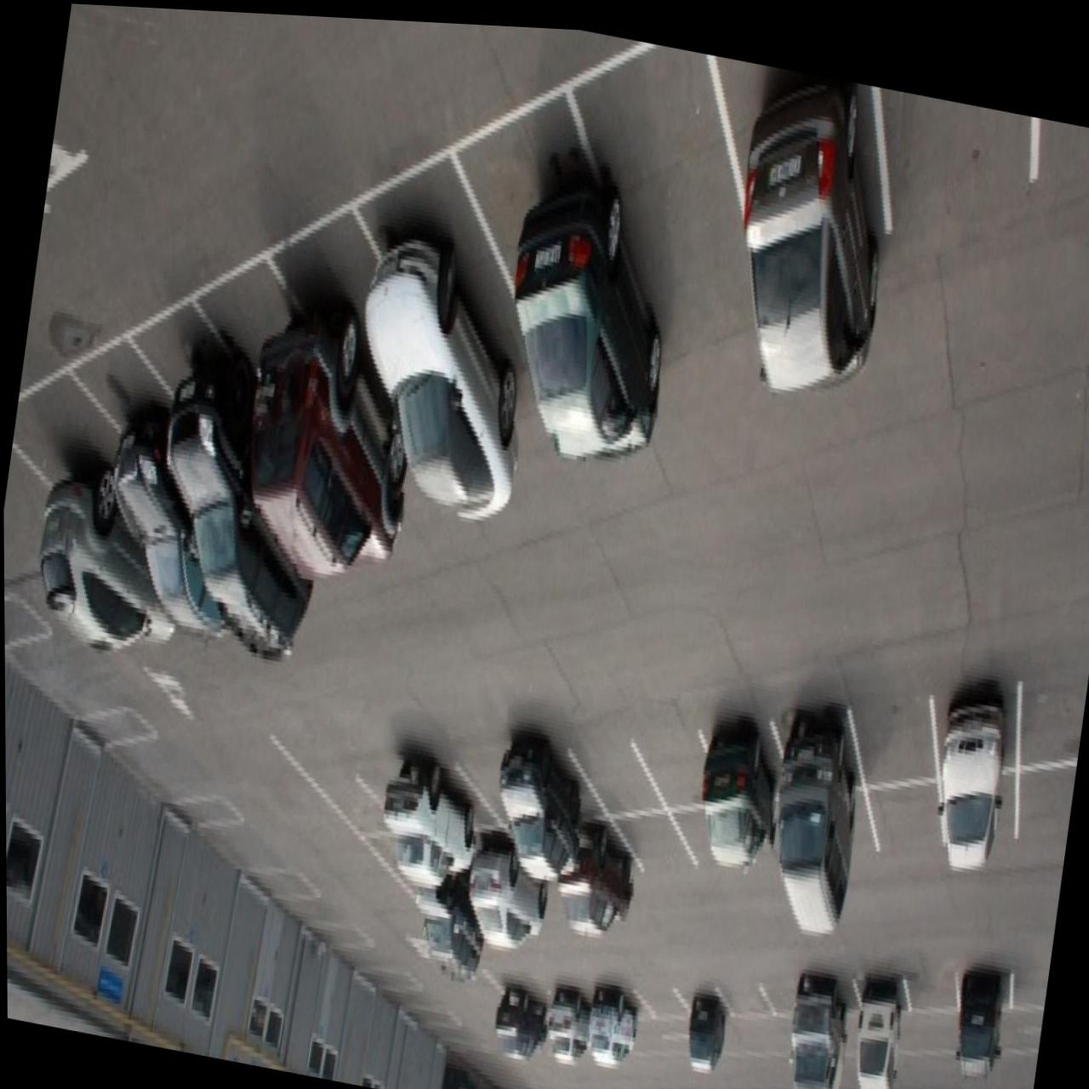cars: (454, 87, 676, 481), (561, 33, 774, 425), (342, 179, 560, 513), (185, 235, 375, 588), (262, 190, 457, 523), (702, 59, 901, 372), (136, 327, 314, 610), (3, 406, 172, 671), (80, 344, 229, 597), (693, 696, 795, 863), (382, 741, 481, 904), (509, 706, 593, 883), (772, 697, 855, 853), (456, 862, 550, 977), (550, 838, 632, 947), (404, 878, 492, 971), (491, 958, 559, 1056), (798, 950, 858, 1045), (852, 951, 908, 1051), (954, 949, 1014, 1036), (589, 960, 643, 1055), (542, 966, 598, 1040), (681, 971, 730, 1039)
empty: (864, 88, 1041, 299), (928, 620, 1028, 804), (447, 703, 538, 877), (567, 713, 655, 873), (860, 650, 944, 793), (999, 767, 1076, 896), (646, 695, 720, 823), (306, 752, 386, 869), (1028, 610, 1089, 754), (860, 777, 940, 885), (615, 820, 686, 931), (935, 805, 1009, 904), (789, 820, 867, 911), (675, 814, 744, 916), (634, 962, 692, 1036), (737, 841, 796, 911), (904, 950, 957, 1014), (756, 961, 806, 1025), (719, 969, 766, 1025)
